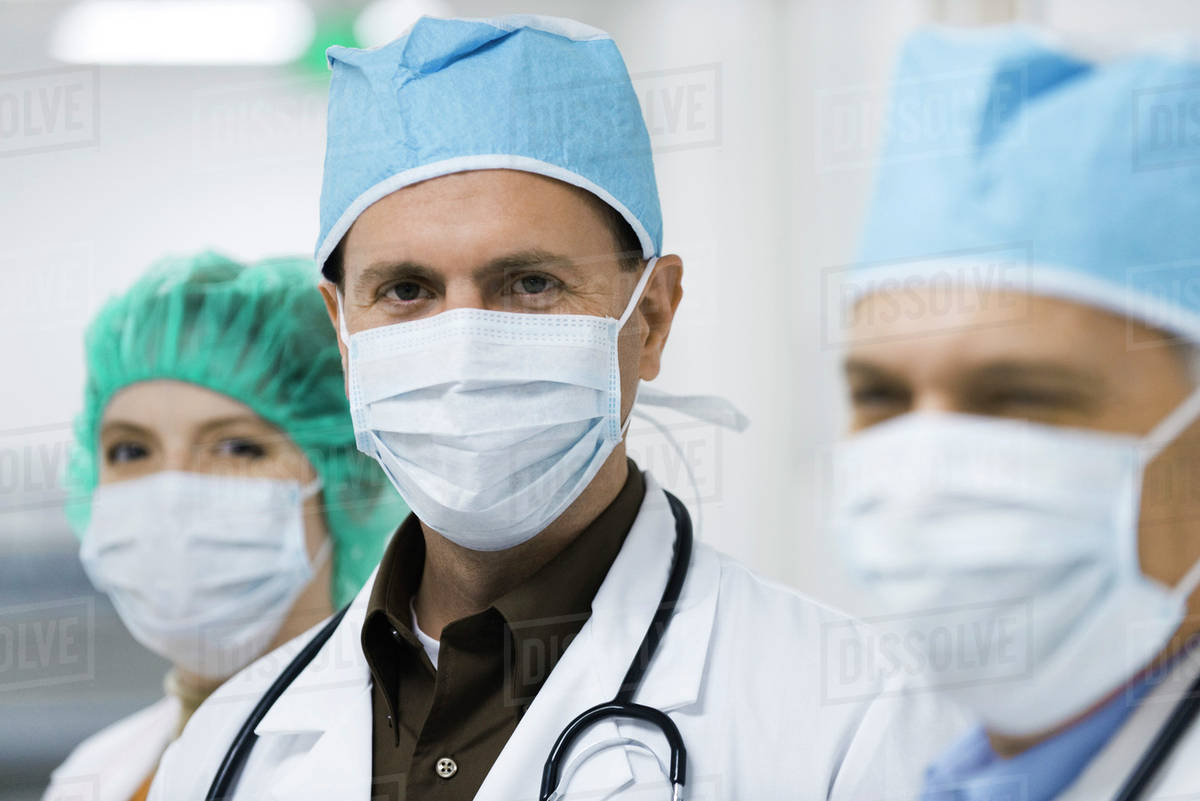surgical: (823, 400, 1195, 734), (318, 300, 627, 557), (72, 471, 318, 674)
